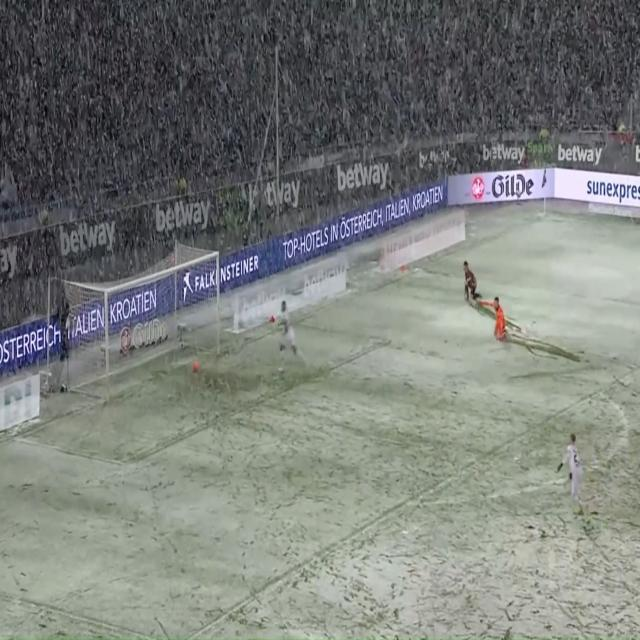ball: (190, 358, 201, 375)
goalkeeper: (475, 296, 506, 343)
player: (267, 293, 308, 372), (558, 426, 590, 519), (460, 256, 483, 309)
